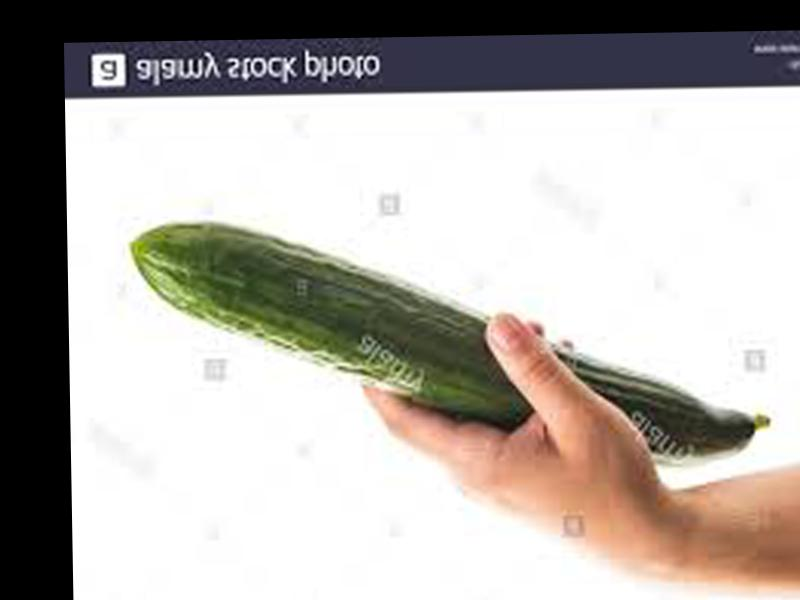Cucumber: (128, 211, 774, 475)
